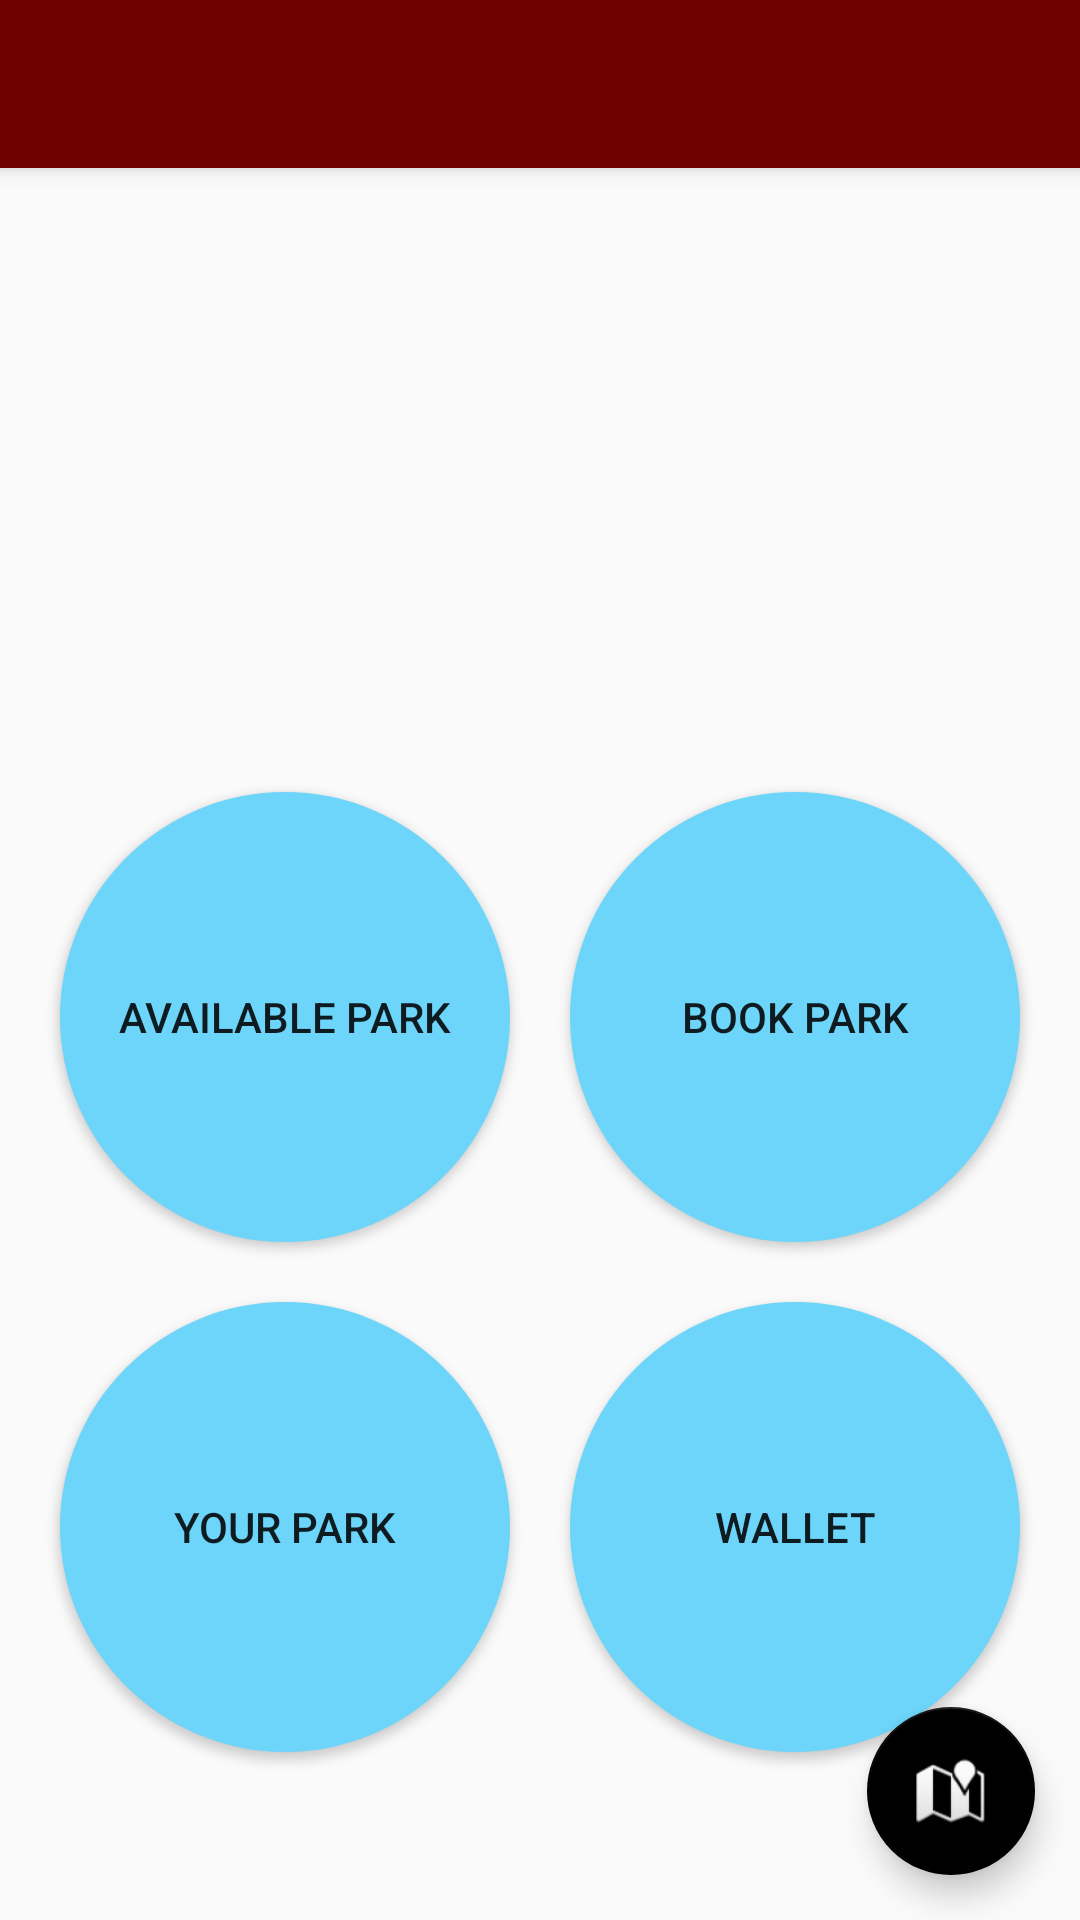

Icon click points for this 1080px x 1920px phone screenshot, format (x=x, y=y):
map: (x=951, y=1791)
